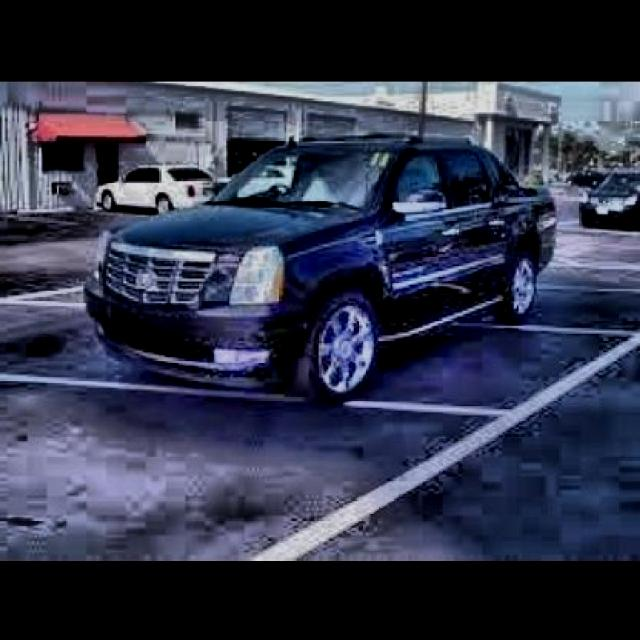black: (118, 131, 562, 395)
